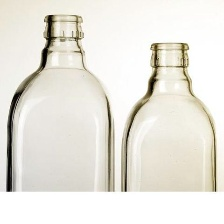bottle: (4, 10, 118, 191), (118, 37, 220, 193)
